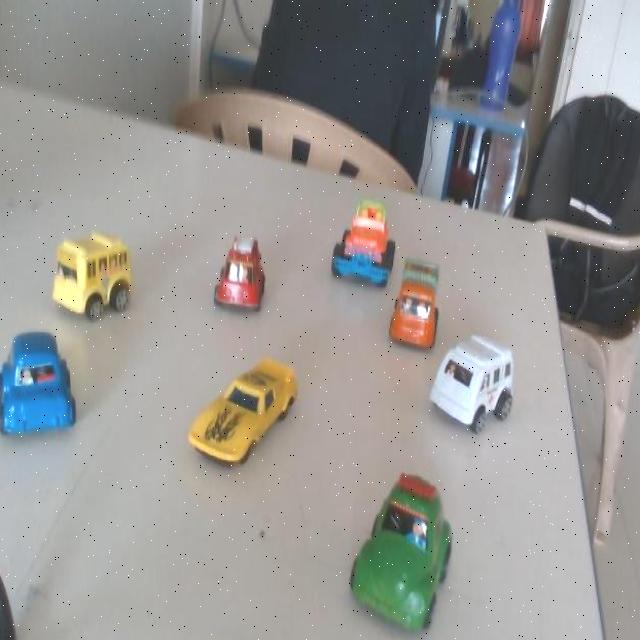car: (323, 462, 500, 640), (406, 308, 534, 465), (181, 354, 310, 472), (0, 334, 76, 440), (61, 235, 143, 330), (318, 188, 395, 286), (387, 247, 452, 360), (212, 231, 278, 324)
